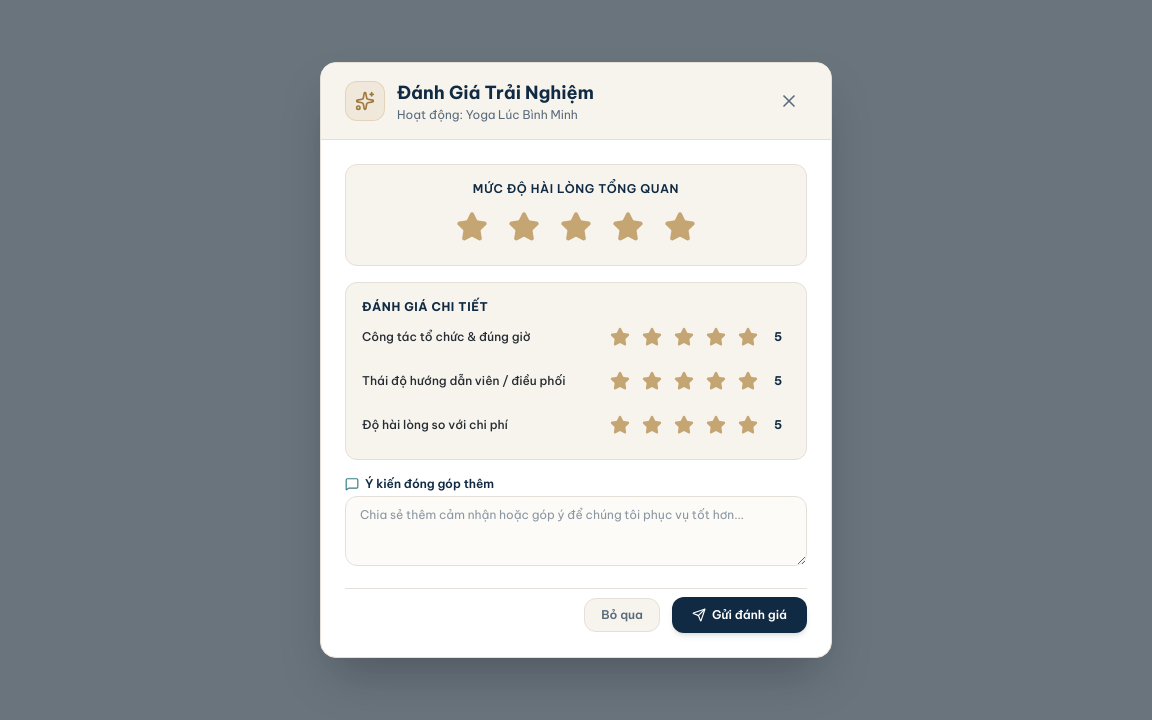
Test: ActivityFeedbackModal Component Tests (KAN-367 & KAN-368) › displays escalation alert for low rating (<= 2 stars) and shows escalated message on submit
Note: Click 2 stars
Click the button with test id "overall-star-2" at (524, 227), box x1=502 y1=205 x2=546 y2=249
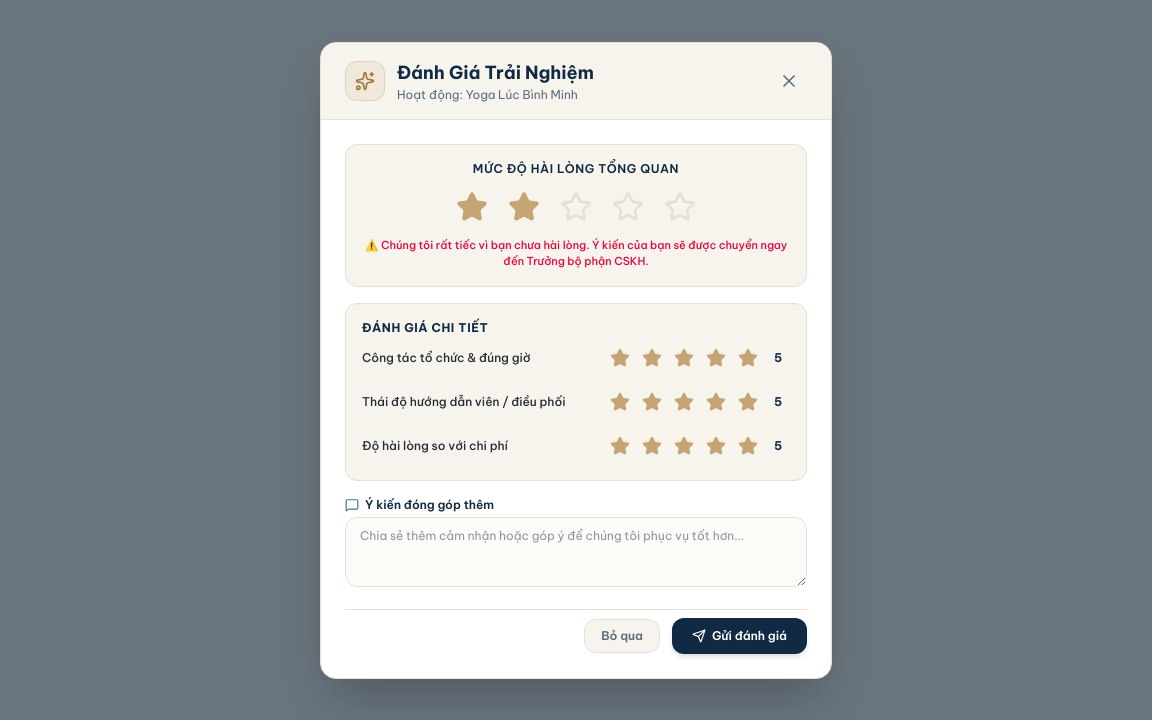
expect the text "Ý kiến của bạn sẽ được chuyển ngay đến Trưởng bộ phận CSKH" is shown: met, box x1=365 y1=238 x2=787 y2=268
Click the button with test id "submit-feedback-button" at (739, 636), box x1=672 y1=618 x2=807 y2=654
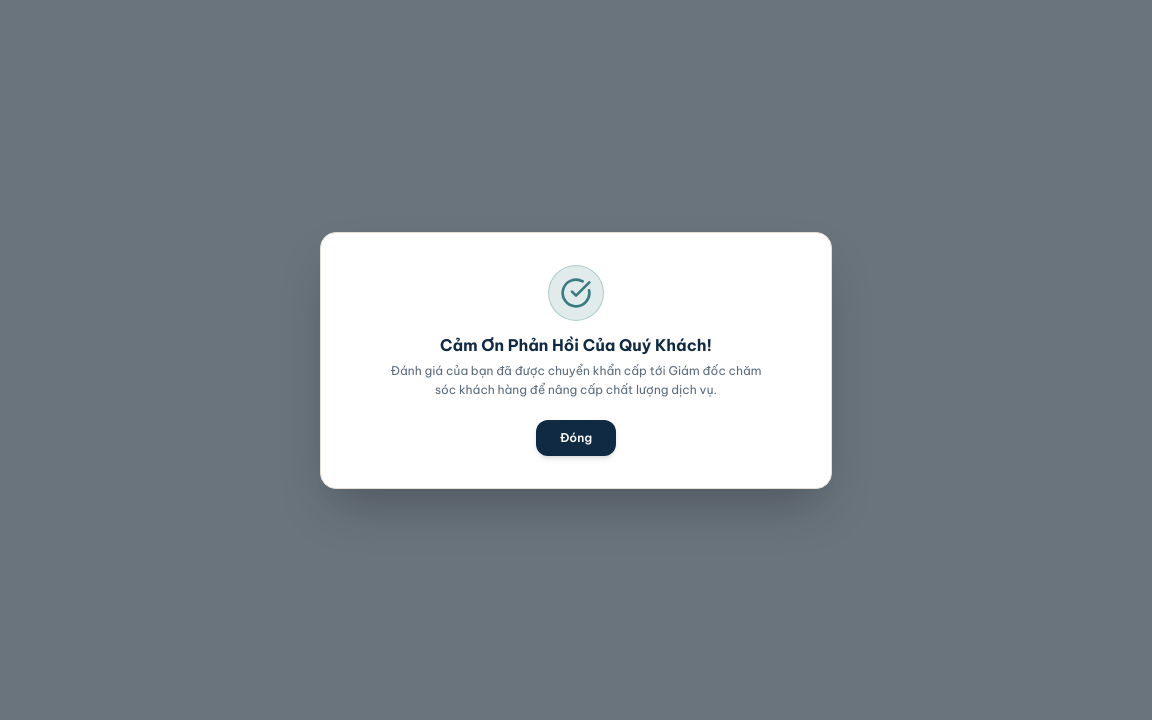
expect the text "Đánh giá của bạn đã được chuyển khẩn cấp tới Giám đốc chăm sóc khách hàng" is shown: met, box x1=390 y1=362 x2=761 y2=397
